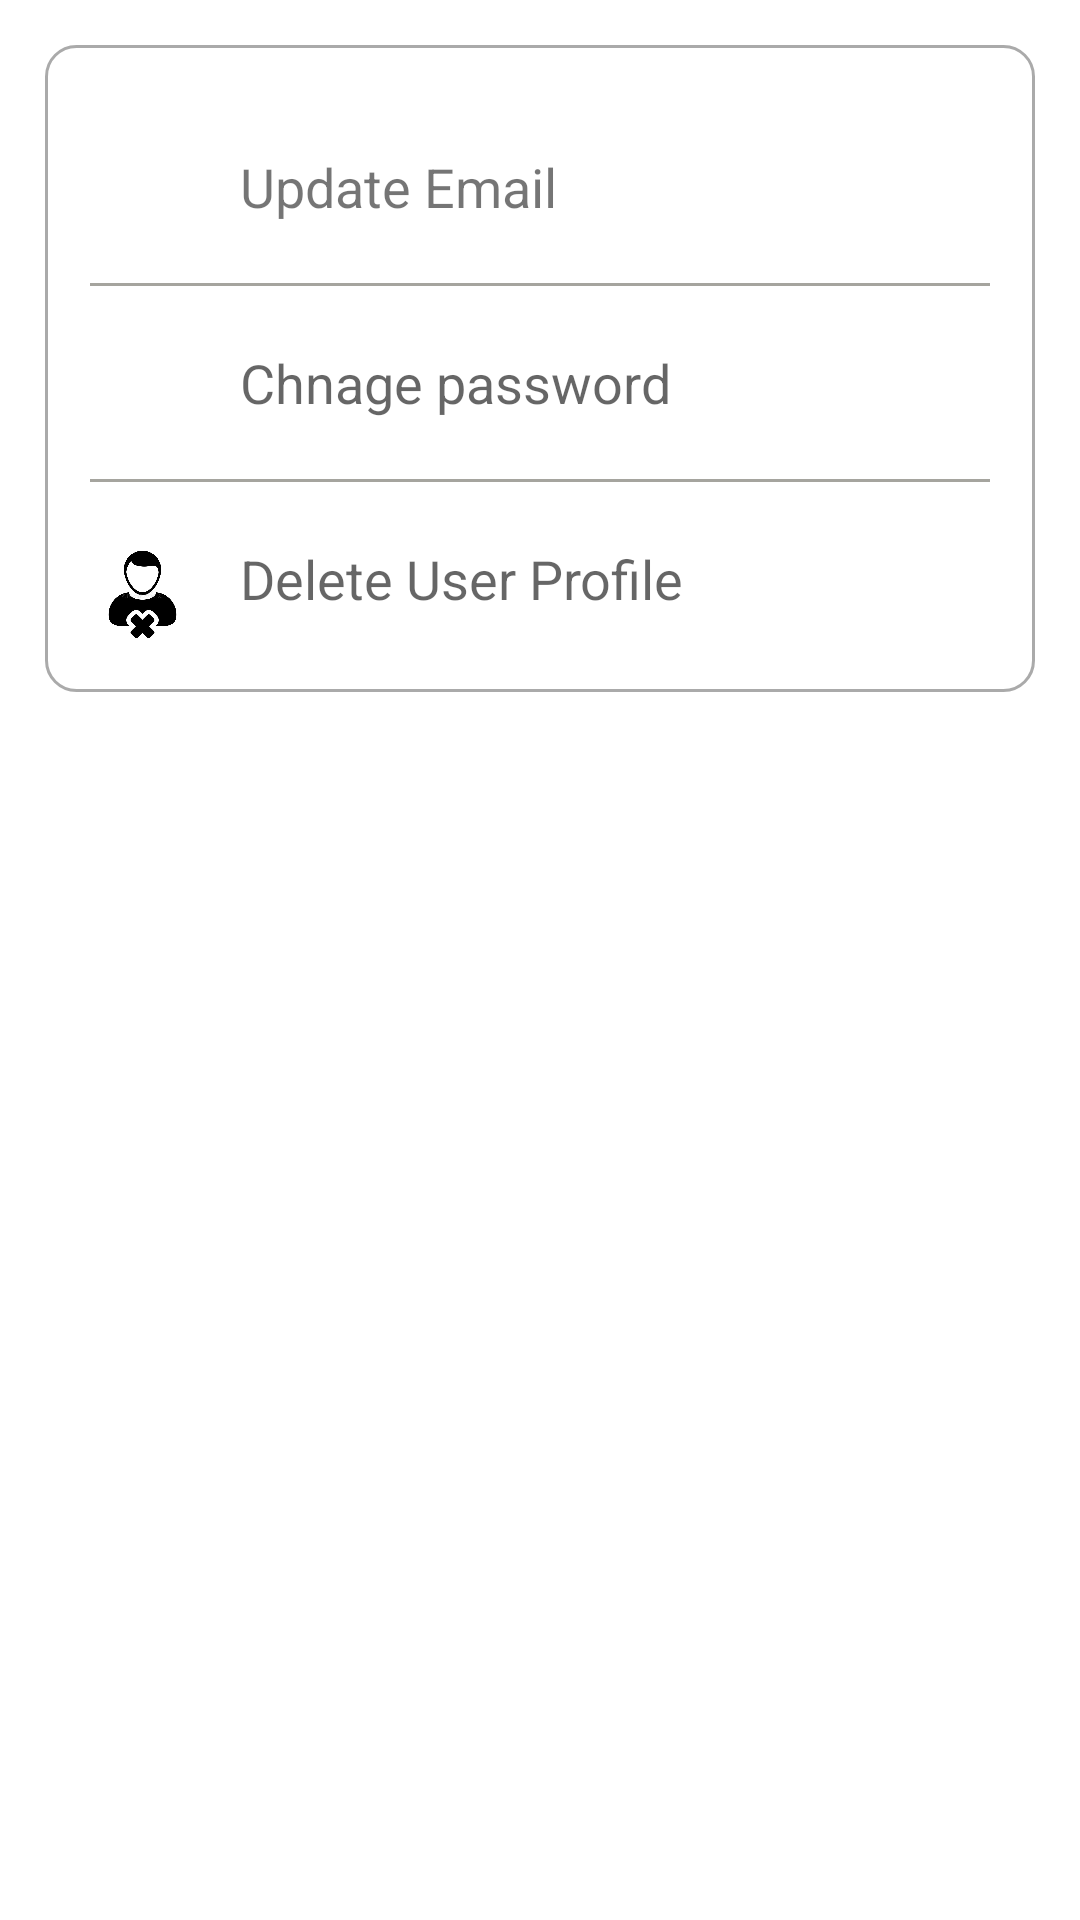

Named icons in this screenshot (1080 x 1920) and their centers, (x=x, y=y):
dlt profile: (x=142, y=594)
